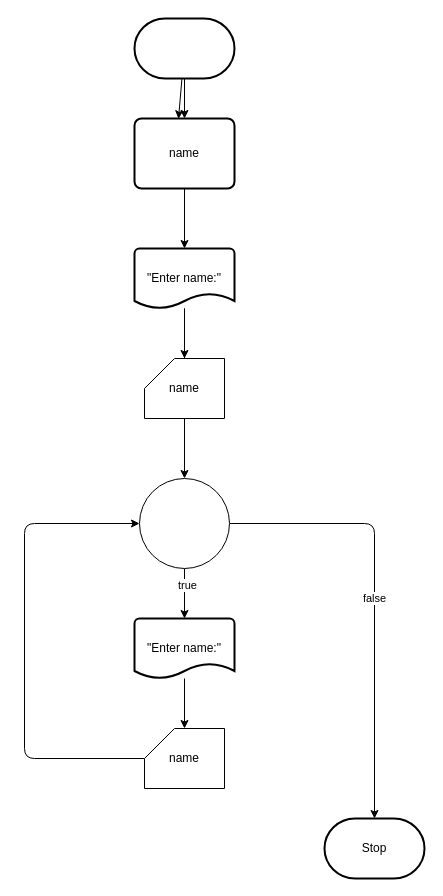
Some shapes in this 443 by 896 pixel diagram are drawn without their labels. Each missing label, with the box of its shape:
Start: (133, 17, 235, 79)
while name == "Guy": (138, 478, 230, 568)
